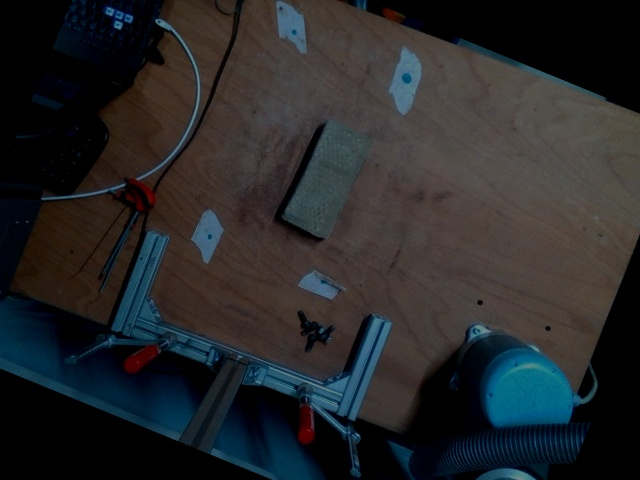brick: (280, 116, 376, 240)
